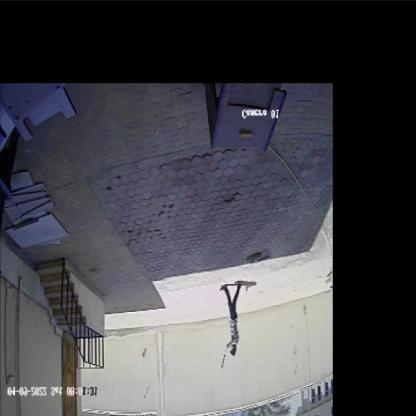handgun: (219, 348, 229, 374)
